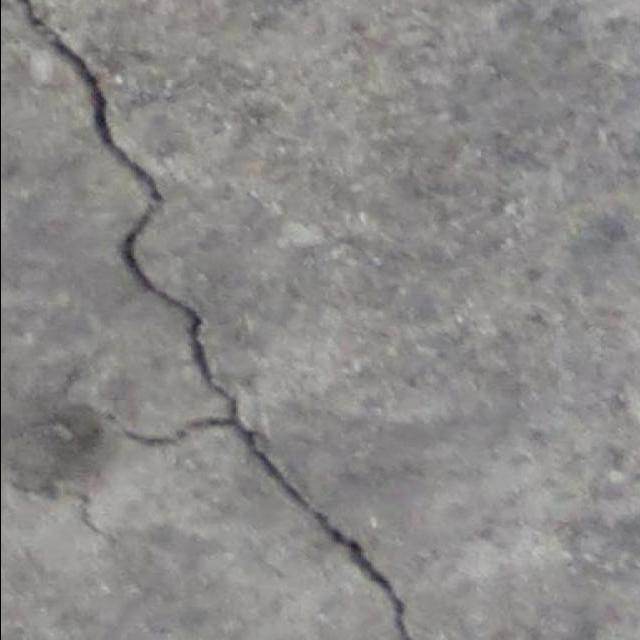crack: (18, 0, 421, 639), (13, 12, 157, 203), (16, 455, 139, 550)
